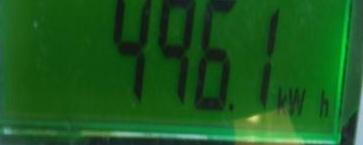.: (274, 84, 332, 121)
0: (227, 101, 236, 113)
2: (256, 6, 285, 110)
5: (110, 0, 157, 100)
7: (193, 1, 236, 110)
:: (157, 1, 195, 104)
